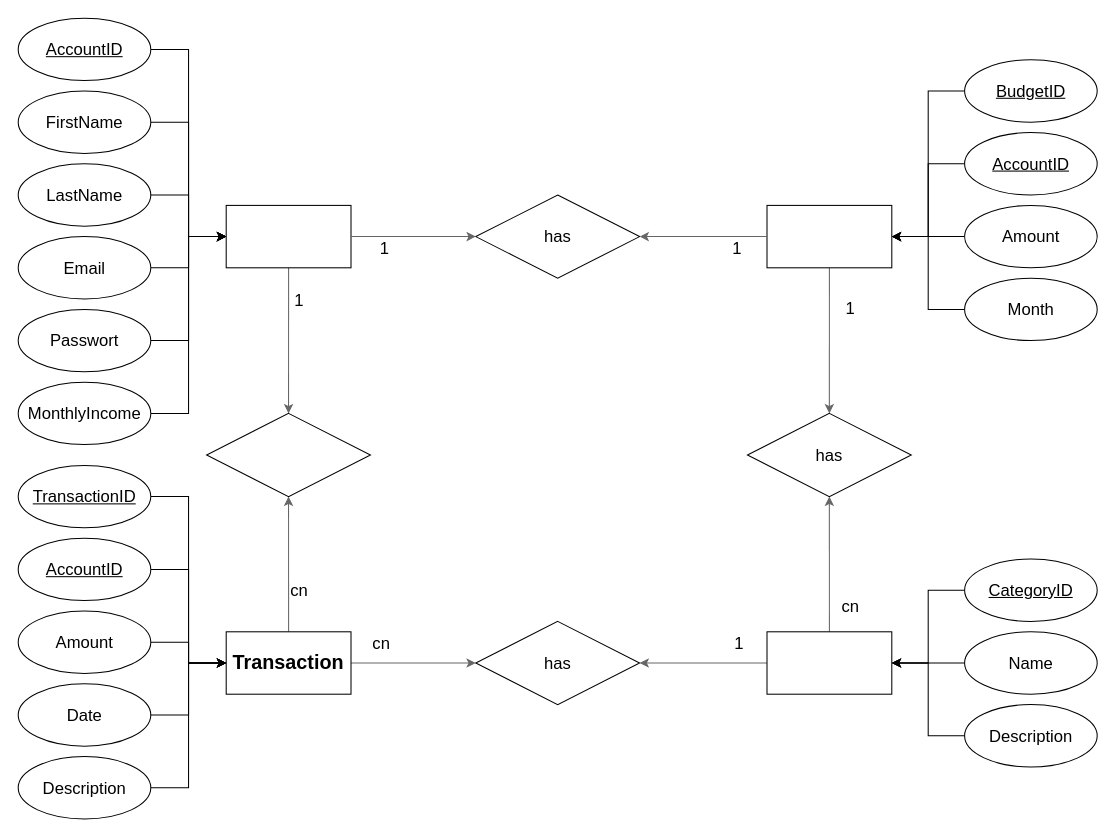
Some shapes in this 1116 by 837 pixel diagram are drawn without their labels. Here are the shapes that lost their labels. From the top down, the centre of each, then its label:
(288,236): Account
(829,236): Budget
(288,454): creates
(829,662): Category
